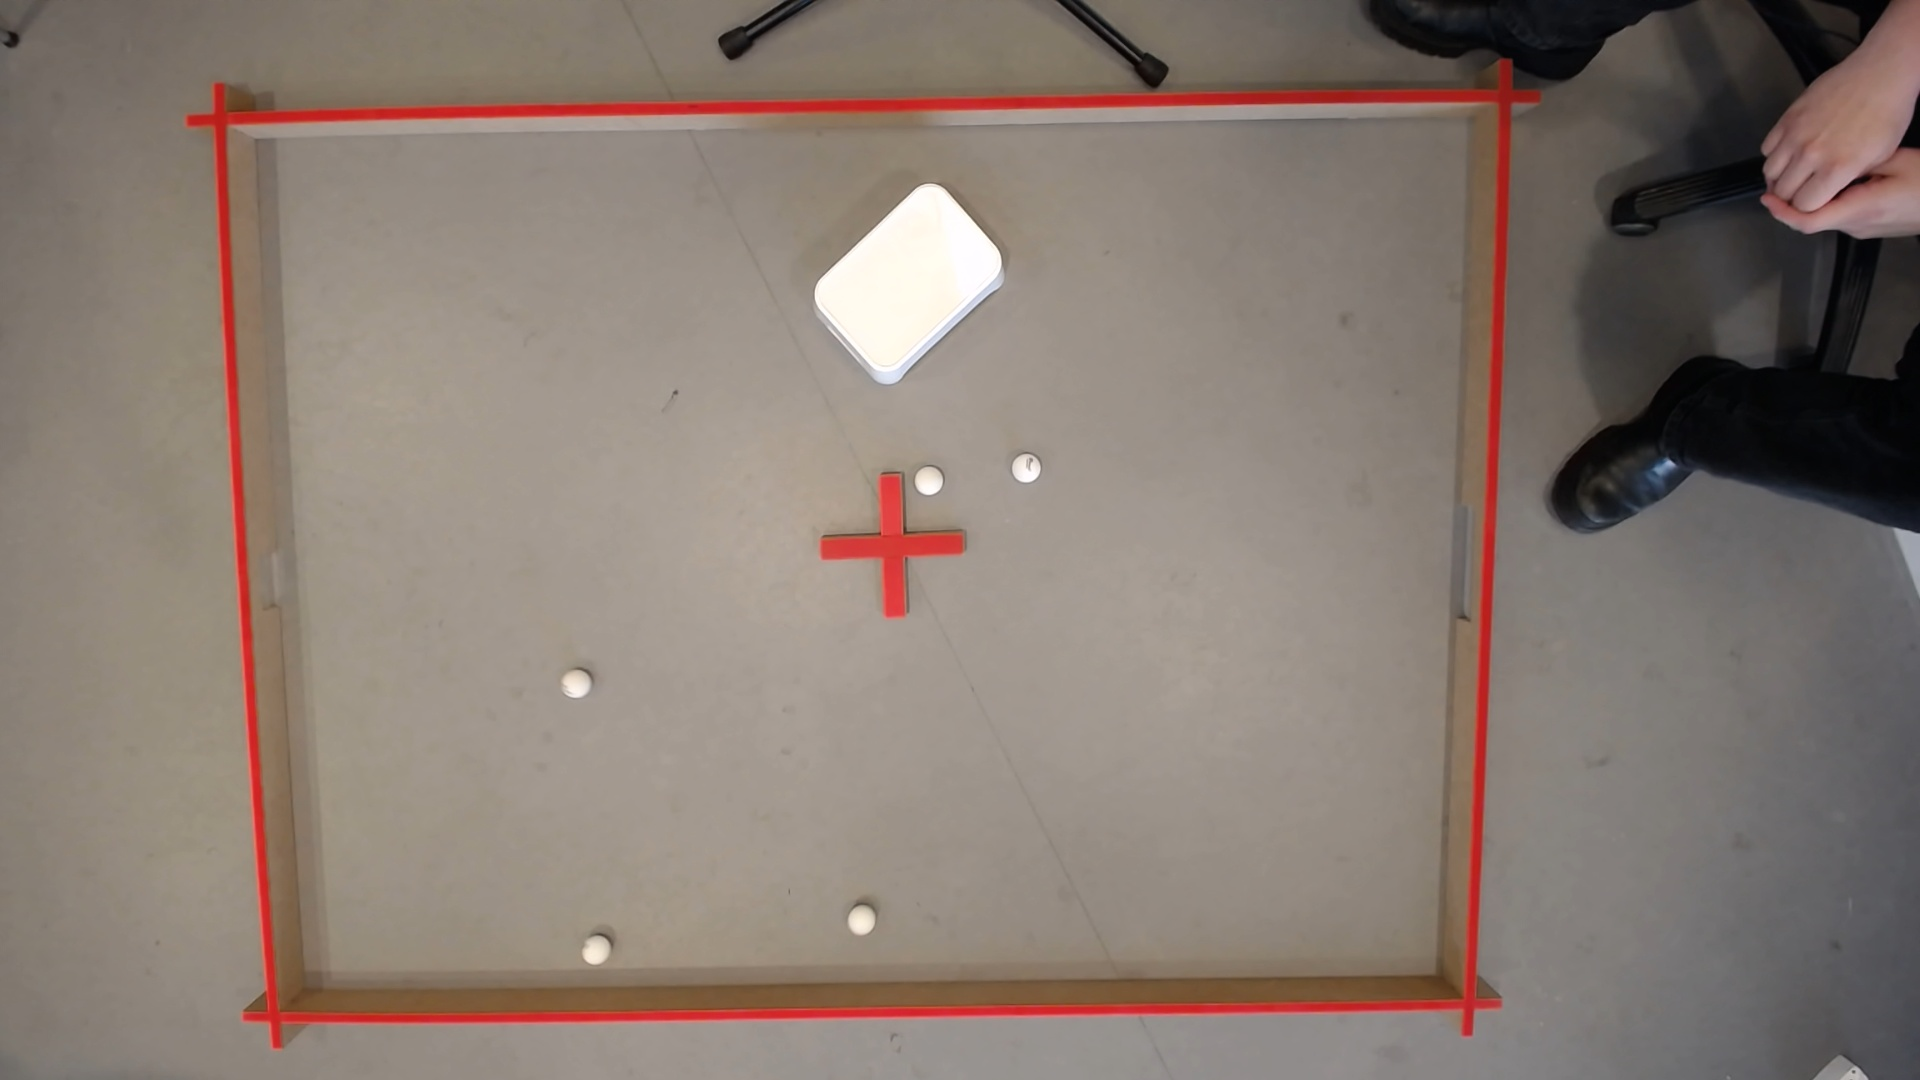balls: (799, 173, 1018, 389), (1805, 164, 1857, 211), (1006, 451, 1043, 487), (909, 464, 945, 498), (843, 905, 877, 938), (559, 667, 591, 702)
car: (579, 936, 611, 968)
